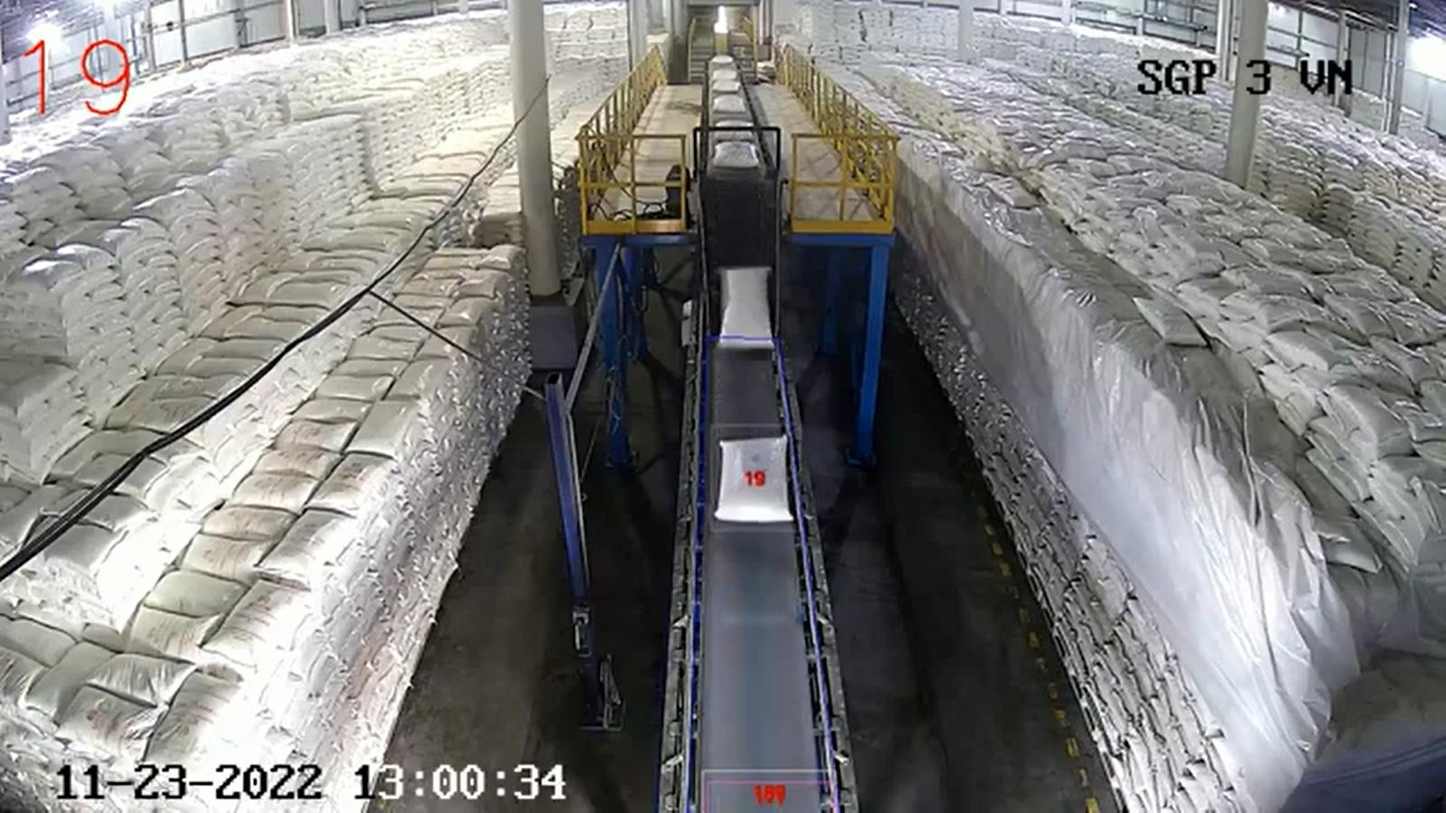rice-bag: (714, 435, 793, 523), (718, 266, 774, 348)
